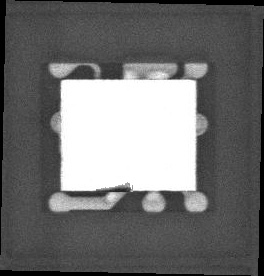DIE_BROKEN: (95, 180, 135, 193)
